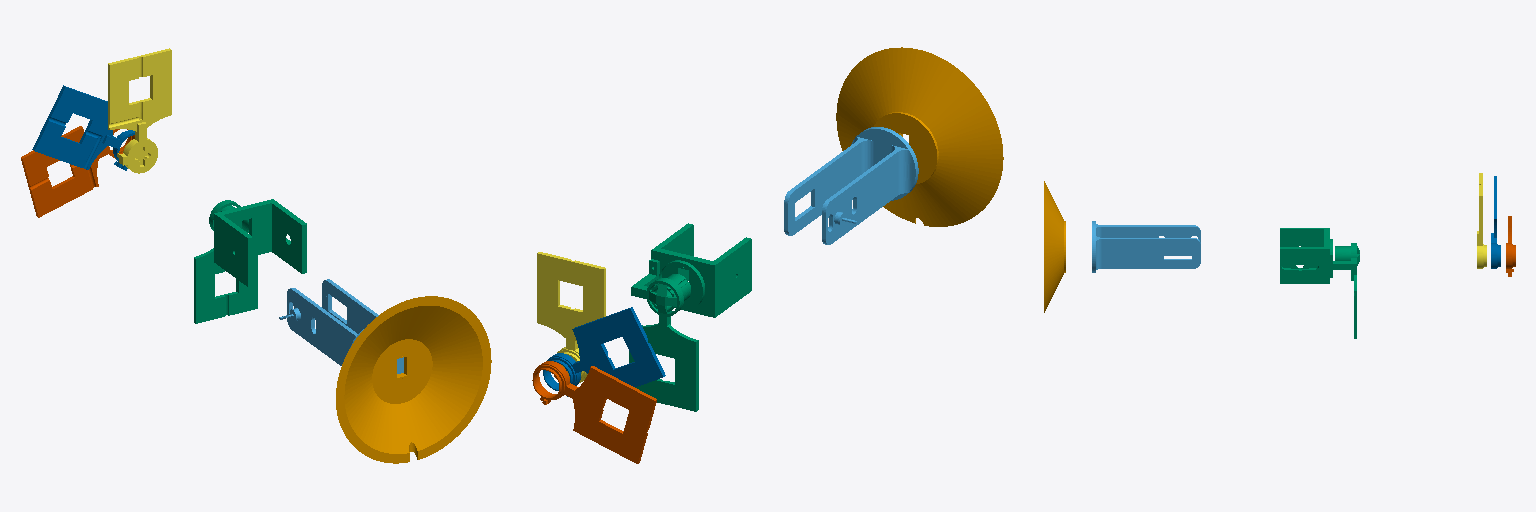
URDF robot description (solar_flower):
<?xml version="1.0" ?>
<!-- =================================================================================== -->
<!-- |    This document was autogenerated by xacro from src/solar_flower_description/urdf/solar_flower.urdf.xacro | -->
<!-- |    EDITING THIS FILE BY HAND IS NOT RECOMMENDED                                 | -->
<!-- =================================================================================== -->
<robot name="solar_flower">
  <!-- Base link -->
  <link name="base_link">
    <visual>
      <origin rpy="0 0 0" xyz="0 0 0"/>
      <geometry>
        <mesh filename="package://solar_flower_description/meshes/base_link.stl" scale="0.001 0.001 0.001"/>
      </geometry>
    </visual>
  </link>
  <!-- Azimuth link -->
  <link name="azimuth_link">
    <visual>
      <geometry>
        <mesh filename="package://solar_flower_description/meshes/azimuth_link.stl" scale="0.001 0.001 0.001"/>
      </geometry>
    </visual>
  </link>
  <!-- Tilt link -->
  <link name="tilt_link">
    <visual>
      <geometry>
        <mesh filename="package://solar_flower_description/meshes/tilt_link.stl" scale="0.001 0.001 0.001"/>
      </geometry>
    </visual>
  </link>
  <!-- Red petal -->
  <link name="red_petal_link">
    <visual>
      <geometry>
        <mesh filename="package://solar_flower_description/meshes/red_petal_link.stl" scale="0.001 0.001 0.001"/>
      </geometry>
    </visual>
  </link>
  <!-- Blue petal -->
  <link name="blue_petal_link">
    <visual>
      <geometry>
        <mesh filename="package://solar_flower_description/meshes/blue_petal_link.stl" scale="0.001 0.001 0.001"/>
      </geometry>
    </visual>
  </link>
  <!-- Green petal -->
  <link name="green_petal_link">
    <visual>
      <geometry>
        <mesh filename="package://solar_flower_description/meshes/green_petal_link.stl" scale="0.001 0.001 0.001"/>
      </geometry>
    </visual>
  </link>
  <!-- Temporary fixed joints only for mesh alignment check -->
  <joint name="azimuth_joint" type="revolute">
    <parent link="base_link"/>
    <child link="azimuth_link"/>
    <origin rpy="0 0 0" xyz="0 0.0387 0"/>
    <axis xyz="0 1 0"/>
    <limit effort="10" lower="-2.8" upper="2.8" velocity="1.0"/>
  </joint>
  <joint name="tilt_joint" type="revolute">
    <parent link="azimuth_link"/>
    <child link="tilt_link"/>
    <origin rpy="0 0 0" xyz="0.0325 0.17535 0"/>
    <axis xyz="1 0 0"/>
    <limit effort="10" lower="-0.524" upper="0.524" velocity="1.0"/>
  </joint>
  <joint name="red_petal_joint" type="revolute">
    <parent link="tilt_link"/>
    <child link="red_petal_link"/>
    <origin rpy="0 0 0" xyz="0 0.2243 0"/>
    <axis xyz="0 1 0"/>
    <limit effort="5" lower="-3.142" upper="0" velocity="1.0"/>
  </joint>
  <joint name="blue_petal_joint" type="revolute">
    <parent link="tilt_link"/>
    <child link="blue_petal_link"/>
    <origin rpy="0 0 0" xyz="0 0.2353 0"/>
    <axis xyz="0 1 0"/>
    <limit effort="5" lower="-2.094" upper="0" velocity="1.0"/>
  </joint>
  <joint name="green_petal_joint" type="revolute">
    <parent link="tilt_link"/>
    <child link="green_petal_link"/>
    <origin rpy="0 0 0" xyz="0 0.2463 0"/>
    <axis xyz="0 1 0"/>
    <limit effort="5" lower="-1.309" upper="0" velocity="1.0"/>
  </joint>
</robot>

--- Render facts (derived) ---
Views: 3 orthographic renders of the robot side by side, from view 1: azimuth 30°, elevation 25°; view 2: azimuth 150°, elevation 25°; view 3: azimuth 270°, elevation 25°.
Model solar_flower with 6 links and 5 joints (5 revolute), rooted at base_link, posed all joints at 0.
Links seen in each view (by area): view 1: base_link, tilt_link, red_petal_link, azimuth_link, blue_petal_link, green_petal_link; view 2: base_link, tilt_link, azimuth_link, green_petal_link, blue_petal_link, red_petal_link; view 3: azimuth_link, tilt_link, base_link, red_petal_link.
Boxes of the visible links, x1,y1,x2,y2 form: base_link: (336, 296, 491, 463); tilt_link: (194, 199, 306, 323); red_petal_link: (108, 48, 171, 173); azimuth_link: (279, 279, 403, 373); blue_petal_link: (32, 85, 134, 170); green_petal_link: (21, 126, 134, 217); base_link: (836, 47, 1003, 226); tilt_link: (629, 223, 751, 411); azimuth_link: (784, 127, 918, 244); green_petal_link: (532, 361, 656, 463); blue_petal_link: (543, 307, 665, 396); red_petal_link: (537, 252, 605, 382); azimuth_link: (1092, 221, 1200, 272); tilt_link: (1280, 228, 1359, 338); base_link: (1044, 181, 1065, 312); red_petal_link: (1477, 173, 1486, 268).
Bounding box of the posed robot: 0.2 × 0.7176 × 0.2401 m (x, y, z).
6 mesh visuals loaded from 6 distinct referenced files (6 binary STL).
